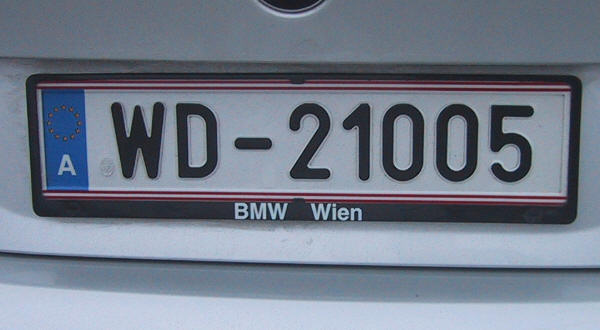license_plate: (35, 80, 569, 205)
